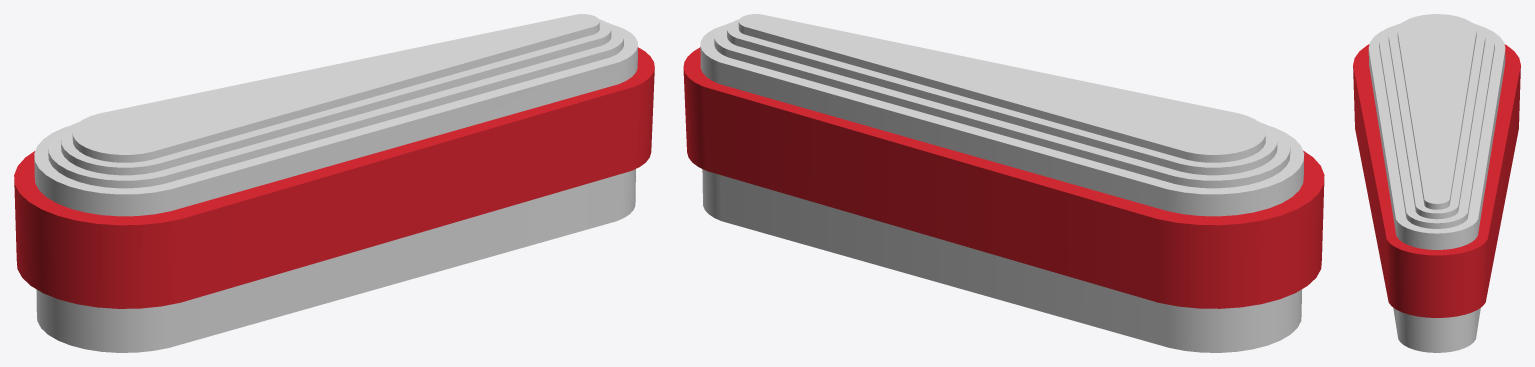
Rendered from Flipper, Gottlieb, Variant 2 (3in).fbx.
The picture shows the model from 3 angles, left to right: view 1: azimuth 30°, elevation 25°; view 2: azimuth 150°, elevation 25°; view 3: azimuth 270°, elevation 25°; orthographic projection. The views are drawn at different scales.
Visible parts, largest first — view 1: Flipper, Gottlieb, Variant 2 (3"); view 2: Flipper, Gottlieb, Variant 2 (3"); view 3: Flipper, Gottlieb, Variant 2 (3").
Boxes of the visible parts, bbox=[...] form: Flipper, Gottlieb, Variant 2 (3"): bbox=[14, 14, 654, 352]; Flipper, Gottlieb, Variant 2 (3"): bbox=[683, 14, 1324, 352]; Flipper, Gottlieb, Variant 2 (3"): bbox=[1353, 14, 1520, 352].
Bounding box in the file's own units: 8.24 × 2.34 × 2.58.
